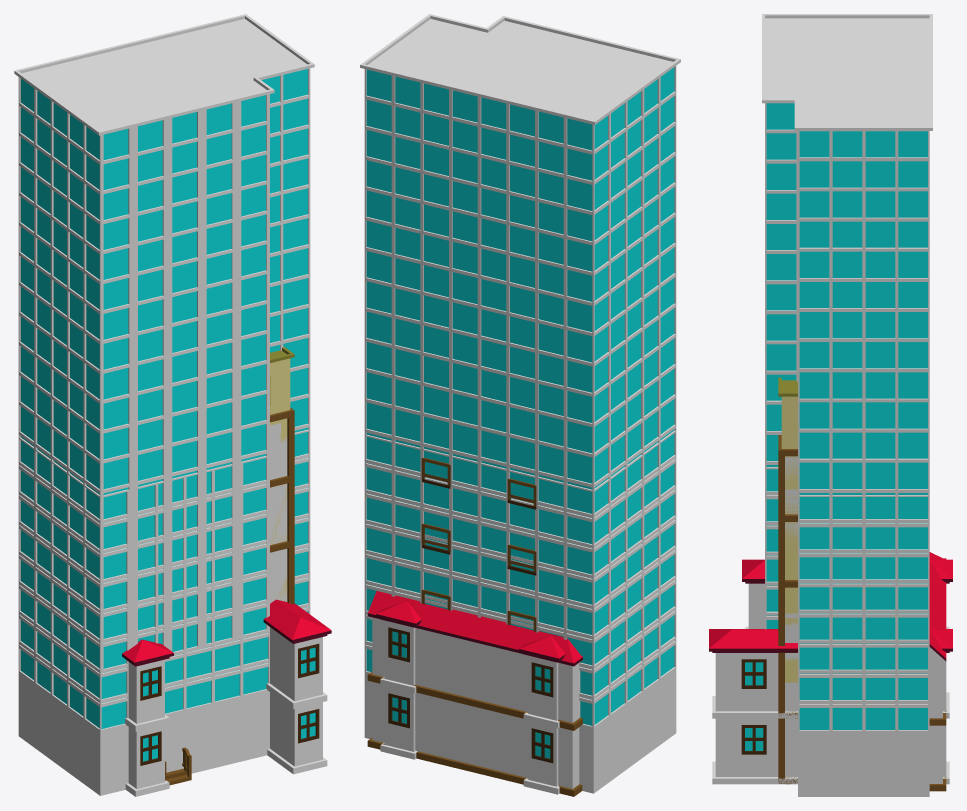
File: houses.fbx
The picture shows the model from 3 angles, left to right: view 1: azimuth 30°, elevation 25°; view 2: azimuth 150°, elevation 25°; view 3: azimuth 270°, elevation 25°; orthographic projection.
Visible parts, largest first — view 1: building_007, building_008, building_001, building_004.003, building_006; view 2: building_007, building_008, building_005, building_001, building_004.003; view 3: building_007, building_001, building_008, building_004.003, building_005, building_006.
Boxes of the visible parts, left/top/right/bottom form: building_007: left=14, top=14, right=314, bottom=795; building_008: left=18, top=429, right=310, bottom=782; building_001: left=122, top=599, right=331, bottom=796; building_004.003: left=270, top=407, right=294, bottom=604; building_006: left=270, top=346, right=294, bottom=601; building_007: left=360, top=14, right=680, bottom=793; building_008: left=364, top=430, right=675, bottom=724; building_005: left=367, top=591, right=582, bottom=796; building_001: left=376, top=601, right=565, bottom=794; building_004.003: left=421, top=457, right=536, bottom=631; building_007: left=762, top=14, right=932, bottom=796; building_001: left=709, top=559, right=952, bottom=784; building_008: left=766, top=467, right=929, bottom=732; building_004.003: left=778, top=435, right=797, bottom=784; building_005: left=929, top=552, right=946, bottom=791; building_006: left=778, top=377, right=797, bottom=773.
Size of the model in its own units: 820 by 2246 by 740.
